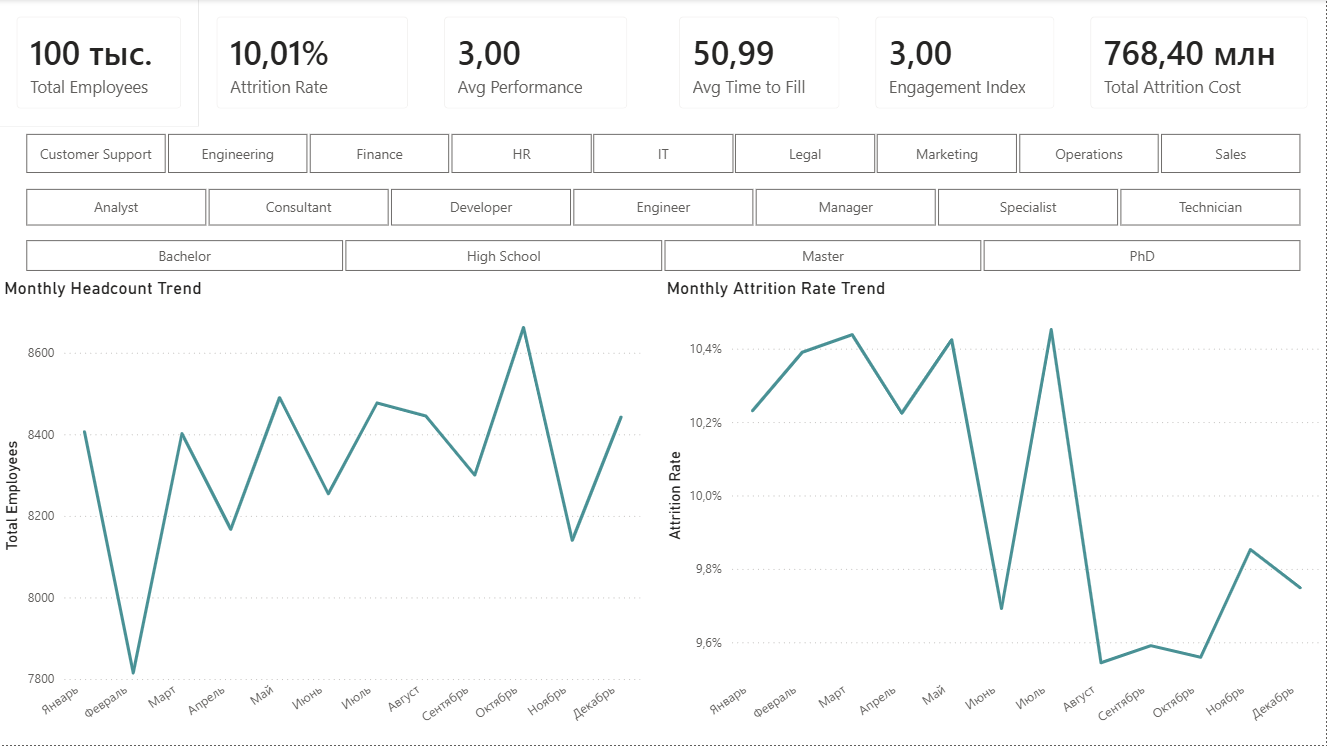

What the dashboard file says about the page in this screenshot:
{"tool":"powerbi","page":{"name":"Executive HR Command Center","canvas":[1280,720],"ordinal":0},"visuals":[{"type":"cardVisual","fields":{"Data":["processed_employee_data.Total Employees"]},"box":[0,0,193.5,123.5],"z":0},{"type":"cardVisual","fields":{"Data":["processed_employee_data.Attrition Rate"]},"box":[193.5,0,219.6,123.5],"z":1000},{"type":"cardVisual","fields":{"Data":["processed_employee_data.Avg Performance"]},"box":[413,0,211.3,123.5],"z":2000},{"type":"cardVisual","fields":{"Data":["processed_employee_data.Engagement Index"]},"box":[828.8,0,207.2,123.5],"z":3000},{"type":"cardVisual","fields":{"Data":["processed_employee_data.Total Attrition Cost"]},"box":[1036,0,244.3,123.5],"z":4000},{"type":"lineChart","title":"Monthly Headcount Trend","fields":{"Y":["processed_employee_data.Total Employees"],"Category":["processed_employee_data.Hire_Month.Изменение.Иерархия дат.Месяц"]},"box":[0,269,624.4,451.5],"z":5000},{"type":"lineChart","title":"Monthly Attrition Rate Trend","fields":{"Y":["processed_employee_data.Attrition Rate"],"Category":["processed_employee_data.Hire_Month.Изменение.Иерархия дат.Месяц"]},"box":[639.5,269,640.8,451.5],"z":6000},{"type":"slicer","fields":{"Values":["processed_employee_data.Department"]},"box":[0,123.5,1280.3,52.1],"z":7000},{"type":"slicer","fields":{"Values":["processed_employee_data.Job_Title"]},"box":[0,175.6,1280.3,49.4],"z":8000},{"type":"slicer","fields":{"Values":["processed_employee_data.Education_Level"]},"box":[0,225,1280.3,43.9],"z":9000},{"type":"cardVisual","fields":{"Data":["processed_employee_data.Avg Time to Fill"]},"box":[639.5,0,189.4,123.5],"z":10000}]}

Visuals, with their boxes in screenshot pixels (x1, y1, x2, y2), scaled from the page's 1280x720 canvas onto the 1327x746 screenshot:
cardVisual - processed_employee_data.Total Employees: detection(0, 0, 201, 128)
cardVisual - processed_employee_data.Attrition Rate: detection(201, 0, 428, 128)
cardVisual - processed_employee_data.Avg Performance: detection(428, 0, 647, 128)
cardVisual - processed_employee_data.Engagement Index: detection(859, 0, 1074, 128)
cardVisual - processed_employee_data.Total Attrition Cost: detection(1074, 0, 1326, 128)
"Monthly Headcount Trend" lineChart: detection(0, 279, 647, 745)
"Monthly Attrition Rate Trend" lineChart: detection(663, 279, 1326, 745)
slicer - processed_employee_data.Department: detection(0, 128, 1326, 182)
slicer - processed_employee_data.Job_Title: detection(0, 182, 1326, 233)
slicer - processed_employee_data.Education_Level: detection(0, 233, 1326, 279)
cardVisual - processed_employee_data.Avg Time to Fill: detection(663, 0, 859, 128)
